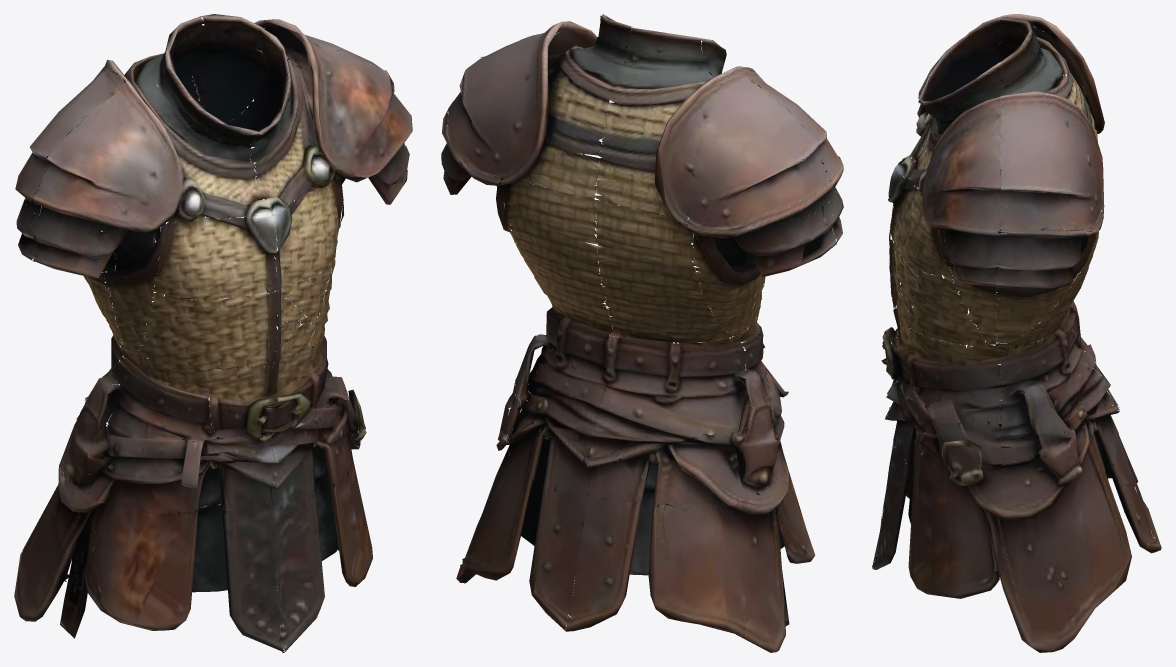
Rendered from a_reed_cuirass.glb.
3 renders of one model, left to right at view 1: azimuth 30°, elevation 25°; view 2: azimuth 150°, elevation 25°; view 3: azimuth 270°, elevation 25°, orthographic. The views are drawn at different scales.
Visible parts, largest first — view 1: geometry_0; view 2: geometry_0; view 3: geometry_0.
Part boxes in pixels (x1,y1,x2,y2): geometry_0: (14,14,412,652); geometry_0: (441,14,843,652); geometry_0: (872,14,1161,652).
Bounding box in the file's own units: 0.3677 × 0.55 × 0.2625.
Materials: 1 (1 with a texture image).
